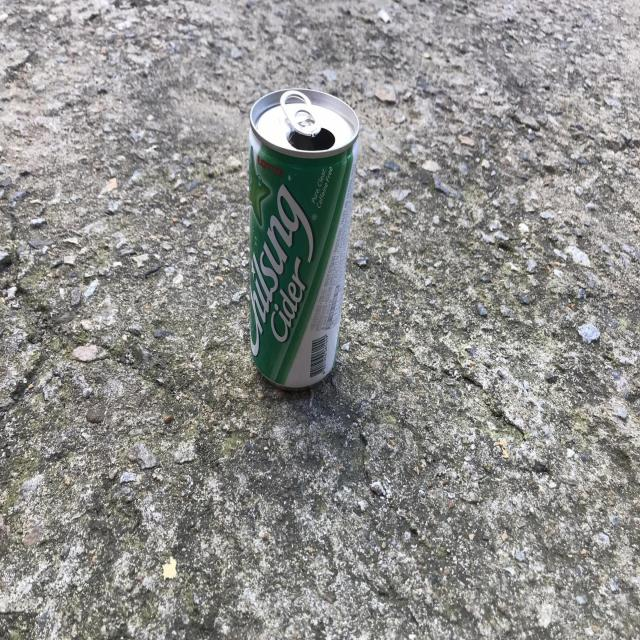can: (249, 87, 360, 388)
